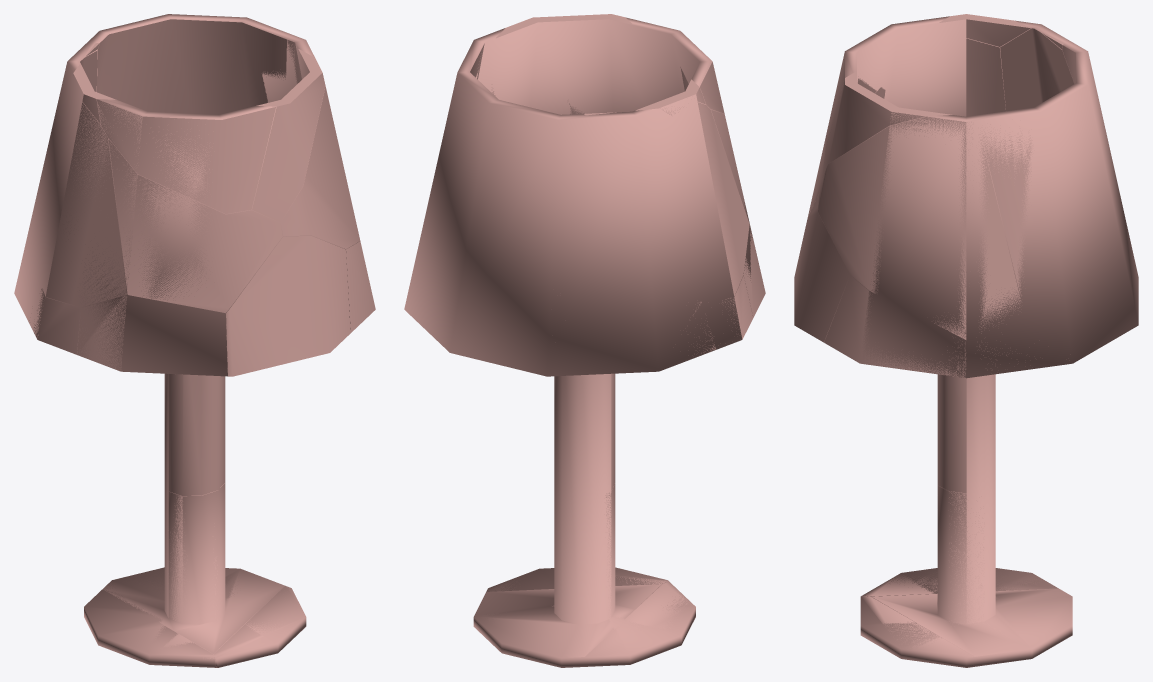
The model's file is P_Lampe.fbx.
The picture shows the model from 3 angles, left to right: view 1: azimuth 30°, elevation 25°; view 2: azimuth 150°, elevation 25°; view 3: azimuth 270°, elevation 25°; orthographic projection.
Parts seen in each view (by area): view 1: P_LampePied, P_LampePied_cell.026, P_LampePied_cell.004, P_LampePied_cell.009, P_LampePied_cell.016, P_LampePied_cell.007, P_LampePied_cell.010, P_LampePied_cell.006, P_LampePied_cell.021, P_LampePied_cell.013, P_LampePied_cell.018, P_LampePied_cell.017 (+4 smaller); view 2: P_LampePied, P_LampePied_cell.016, P_LampePied_cell.010, P_LampePied_cell.019, P_LampePied_cell.017, P_LampePied_cell.021, P_LampePied_cell.007, P_LampePied_cell.004, P_LampePied_cell.015, P_LampePied_cell.018, P_LampePied_cell.003, P_LampePied_cell.006; view 3: P_LampePied, P_LampePied_cell.013, P_LampePied_cell.016, P_LampePied_cell.009, P_LampePied_cell.029, P_LampePied_cell.026, P_LampePied_cell.021, P_LampePied_cell.014, P_LampePied_cell.006, P_LampePied_cell.018, P_LampePied_cell.010, P_LampePied_cell.019 (+2 smaller).
Boxes of the visible parts, left/top/right/bottom form: P_LampePied: left=14, top=14, right=359, bottom=667; P_LampePied_cell.026: left=97, top=19, right=286, bottom=114; P_LampePied_cell.004: left=108, top=138, right=282, bottom=312; P_LampePied_cell.009: left=226, top=236, right=350, bottom=376; P_LampePied_cell.016: left=103, top=483, right=284, bottom=653; P_LampePied_cell.007: left=97, top=99, right=275, bottom=213; P_LampePied_cell.010: left=45, top=102, right=126, bottom=307; P_LampePied_cell.006: left=168, top=374, right=225, bottom=495; P_LampePied_cell.021: left=252, top=49, right=325, bottom=222; P_LampePied_cell.013: left=280, top=40, right=360, bottom=248; P_LampePied_cell.018: left=213, top=585, right=306, bottom=667; P_LampePied_cell.017: left=77, top=296, right=227, bottom=375; P_LampePied: left=404, top=17, right=752, bottom=667; P_LampePied_cell.016: left=475, top=483, right=661, bottom=657; P_LampePied_cell.010: left=697, top=102, right=749, bottom=296; P_LampePied_cell.019: left=585, top=581, right=695, bottom=664; P_LampePied_cell.017: left=743, top=227, right=765, bottom=317; P_LampePied_cell.021: left=496, top=14, right=632, bottom=38; P_LampePied_cell.007: left=680, top=62, right=724, bottom=113; P_LampePied_cell.004: left=711, top=109, right=745, bottom=210; P_LampePied_cell.015: left=722, top=276, right=753, bottom=339; P_LampePied_cell.018: left=486, top=568, right=668, bottom=591; P_LampePied_cell.003: left=635, top=79, right=705, bottom=115; P_LampePied_cell.006: left=611, top=373, right=615, bottom=490; P_LampePied: left=808, top=16, right=1138, bottom=667; P_LampePied_cell.013: left=818, top=116, right=1020, bottom=339; P_LampePied_cell.016: left=872, top=486, right=1072, bottom=656; P_LampePied_cell.009: left=794, top=194, right=849, bottom=342; P_LampePied_cell.029: left=1000, top=28, right=1074, bottom=111; P_LampePied_cell.026: left=982, top=45, right=1075, bottom=296; P_LampePied_cell.021: left=822, top=71, right=951, bottom=178; P_LampePied_cell.014: left=824, top=275, right=965, bottom=377; P_LampePied_cell.006: left=937, top=374, right=966, bottom=493; P_LampePied_cell.018: left=860, top=595, right=974, bottom=667; P_LampePied_cell.010: left=966, top=38, right=1005, bottom=116; P_LampePied_cell.019: left=863, top=568, right=1057, bottom=596.
Bounding box in the file's own units: 213 × 359 × 203.
